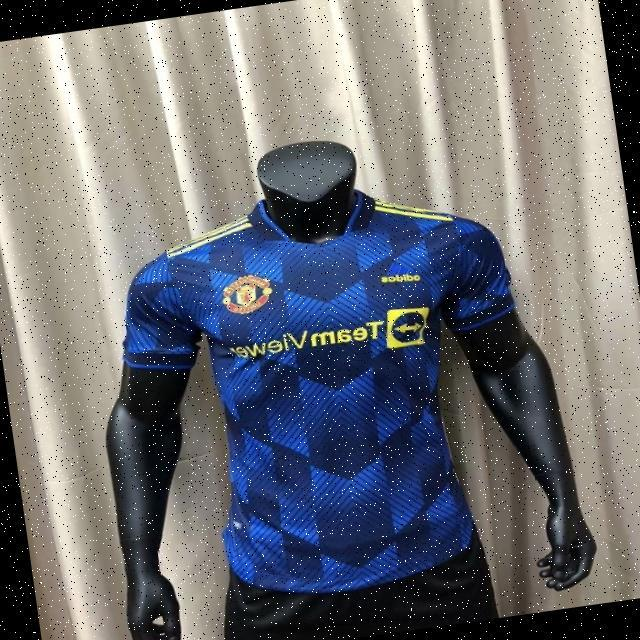TeamViewer: (222, 305, 433, 376)
